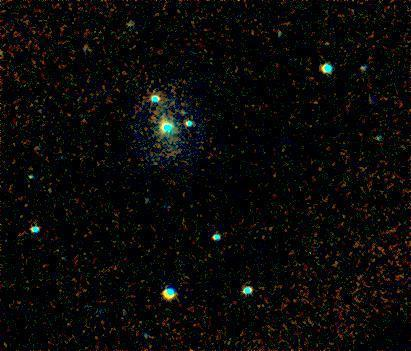star: (312, 28, 342, 58)
